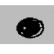correct: (16, 16, 47, 42)
